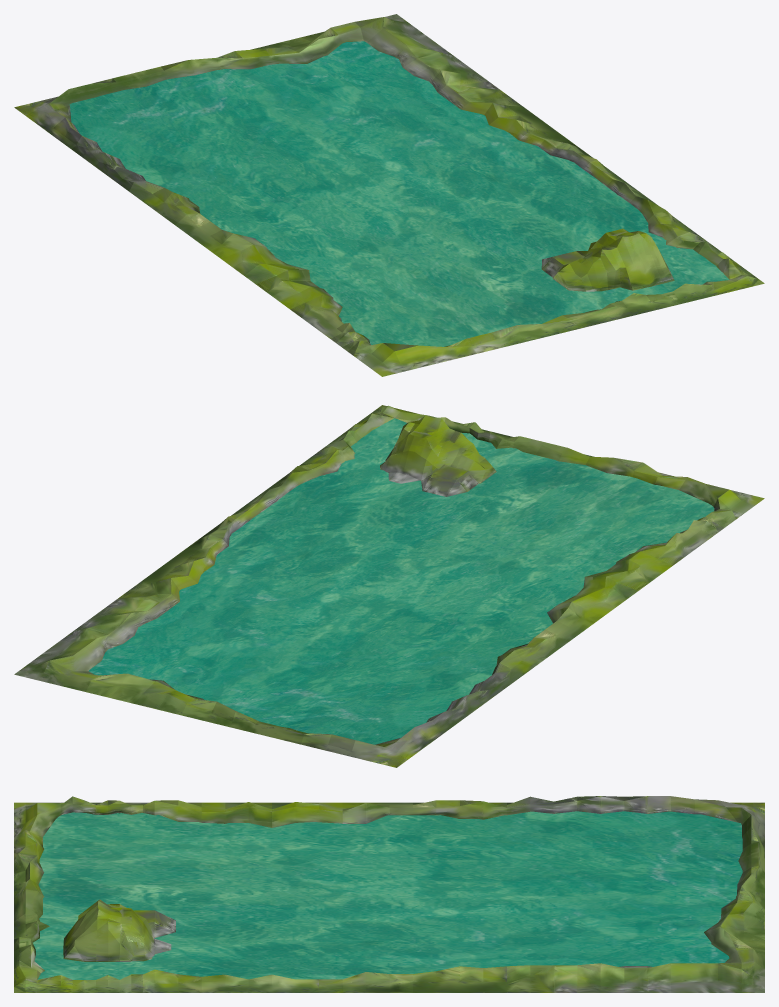
The model's file is terrain.glb.
The picture shows the model from 3 angles, top to bottom: view 1: azimuth 30°, elevation 25°; view 2: azimuth 150°, elevation 25°; view 3: azimuth 270°, elevation 25°; orthographic projection.
Parts seen in each view (by area): view 1: water.001, ground; view 2: water.001, ground; view 3: water.001, ground.
Boxes of the visible parts, left/top/right/bottom form: water.001: left=69, top=41, right=729, bottom=346; ground: left=14, top=14, right=764, bottom=376; water.001: left=89, top=418, right=714, bottom=744; ground: left=14, top=405, right=764, bottom=767; water.001: left=33, top=811, right=742, bottom=979; ground: left=14, top=796, right=764, bottom=992.
Size of what is drawn, in the model's own units: 48 by 5.36 by 80.
2 materials, 2 textured.
